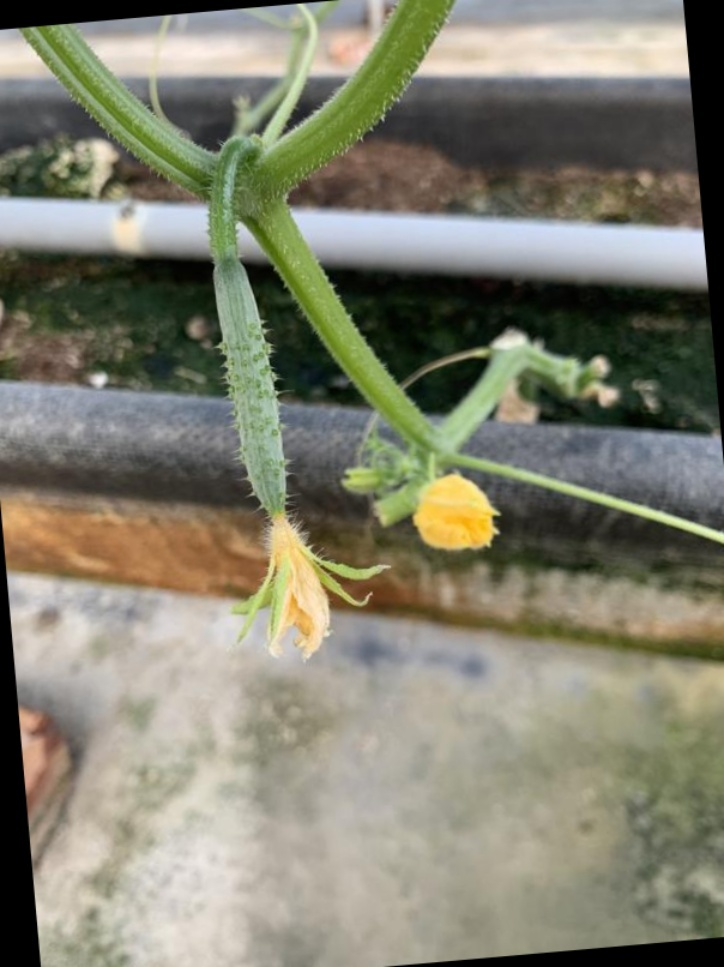bear: (184, 234, 385, 667)
bud: (424, 469, 504, 554)
